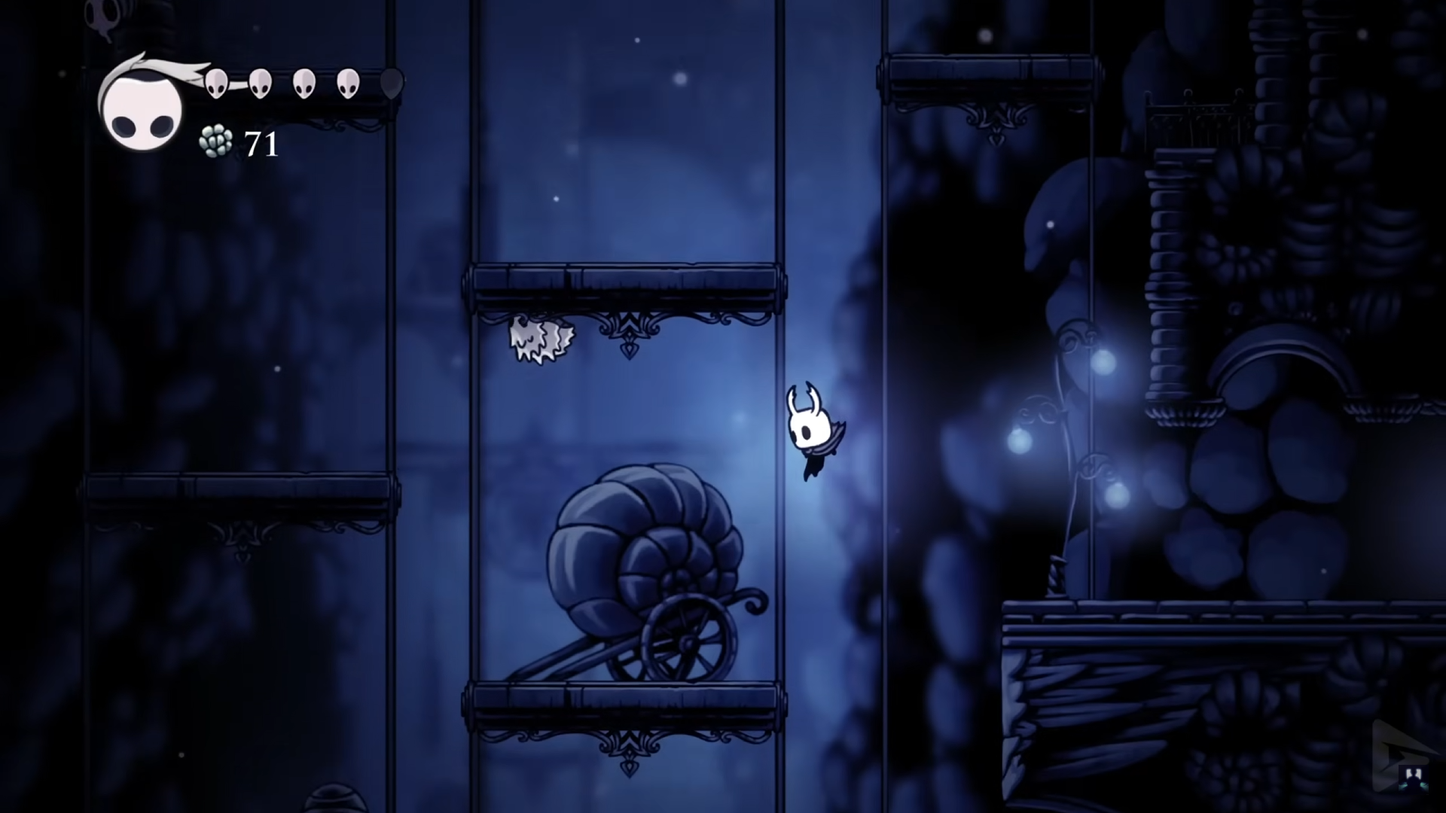HK: (779, 380, 848, 480)
